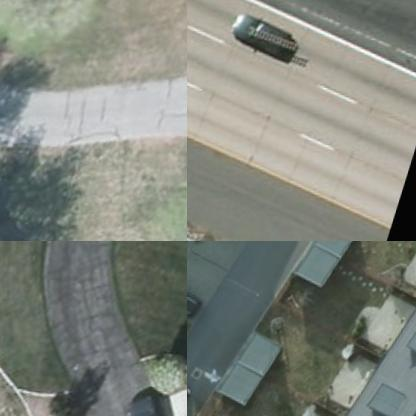car: (226, 12, 296, 61), (119, 389, 186, 415), (187, 274, 209, 321)
